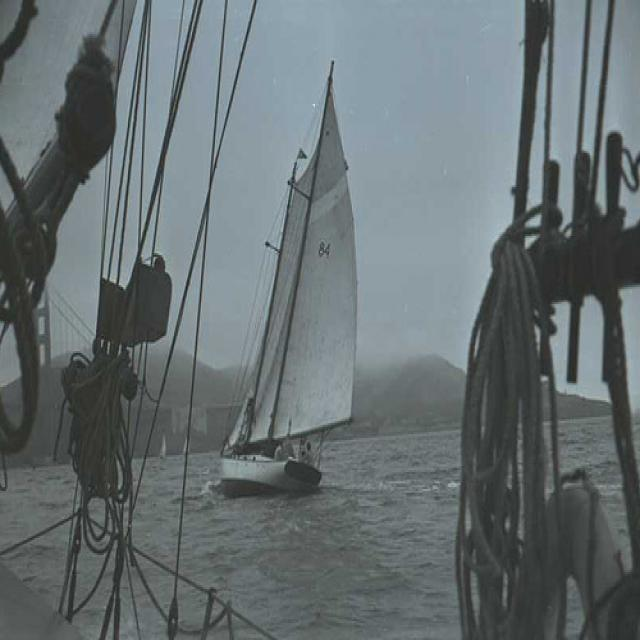Ship: (220, 77, 360, 497)
